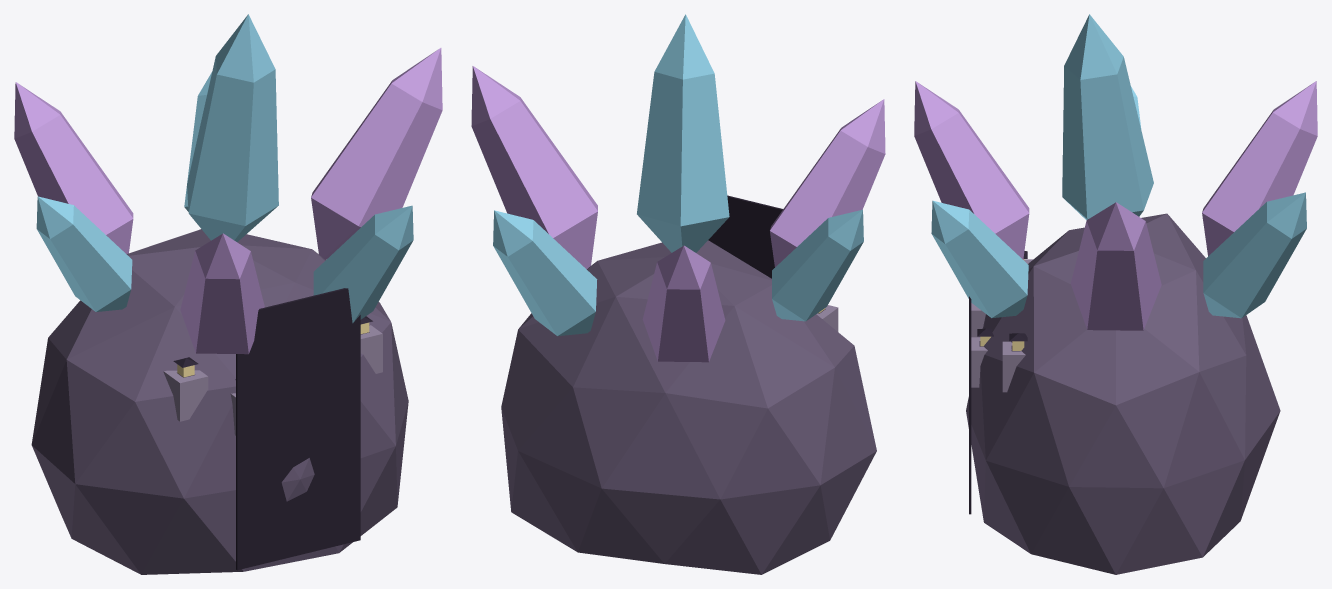
The model's file is cave-g3.glb.
The picture shows the model from 3 angles, left to right: view 1: azimuth 30°, elevation 25°; view 2: azimuth 150°, elevation 25°; view 3: azimuth 270°, elevation 25°; orthographic projection. The views are drawn at different scales.
Parts seen in each view (by area): view 1: cave-g3; view 2: cave-g3; view 3: cave-g3.
Part boxes in pixels (x1,y1,x2,y2): cave-g3: (14,14,442,574); cave-g3: (471,14,885,574); cave-g3: (914,14,1317,574).
Size of the model in its own units: 3.73 by 4.49 by 3.34.
